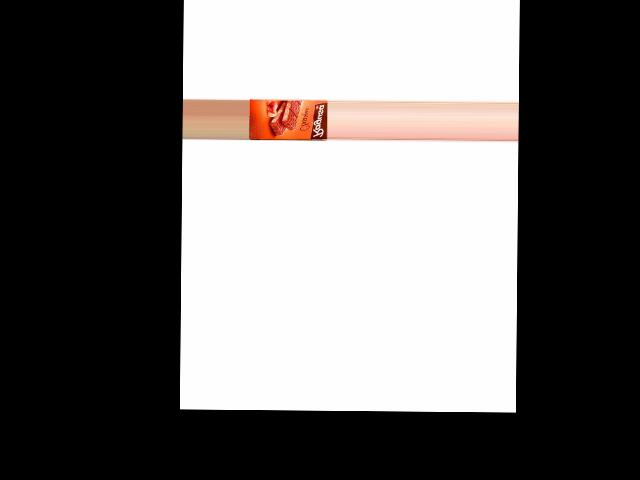chocolate: (248, 94, 326, 142)
